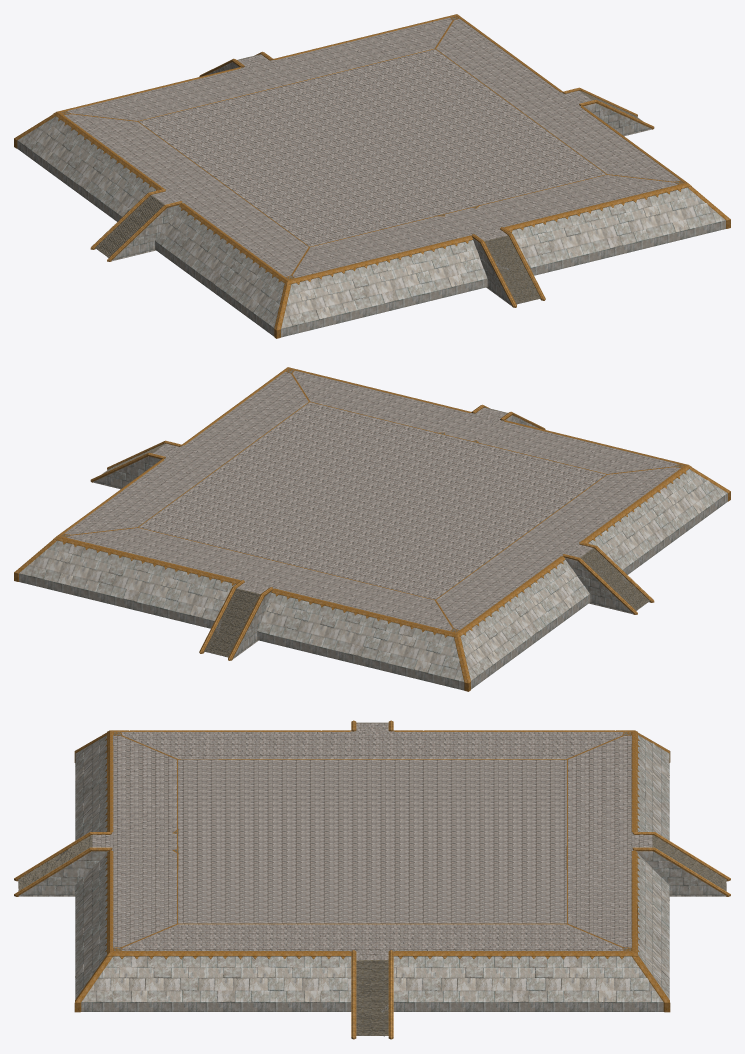
3 renders of one model, top to bottom at view 1: azimuth 30°, elevation 25°; view 2: azimuth 150°, elevation 25°; view 3: azimuth 270°, elevation 25°, orthographic. The views are drawn at different scales.
Visible parts, largest first — view 1: SM_DK_Pyramid_Bottom_01v1_LOD0; view 2: SM_DK_Pyramid_Bottom_01v1_LOD0; view 3: SM_DK_Pyramid_Bottom_01v1_LOD0.
Boxes of the visible parts, x1=… form: SM_DK_Pyramid_Bottom_01v1_LOD0: x1=14, y1=14, x2=730, y2=338; SM_DK_Pyramid_Bottom_01v1_LOD0: x1=14, y1=367, x2=730, y2=691; SM_DK_Pyramid_Bottom_01v1_LOD0: x1=14, y1=720, x2=730, y2=1039.
Size of the model in its own units: 203 by 15.08 by 203.
Materials: 5 (5 with a texture image).
